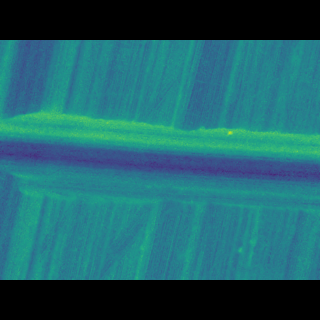Loch: (0, 121, 320, 201)
